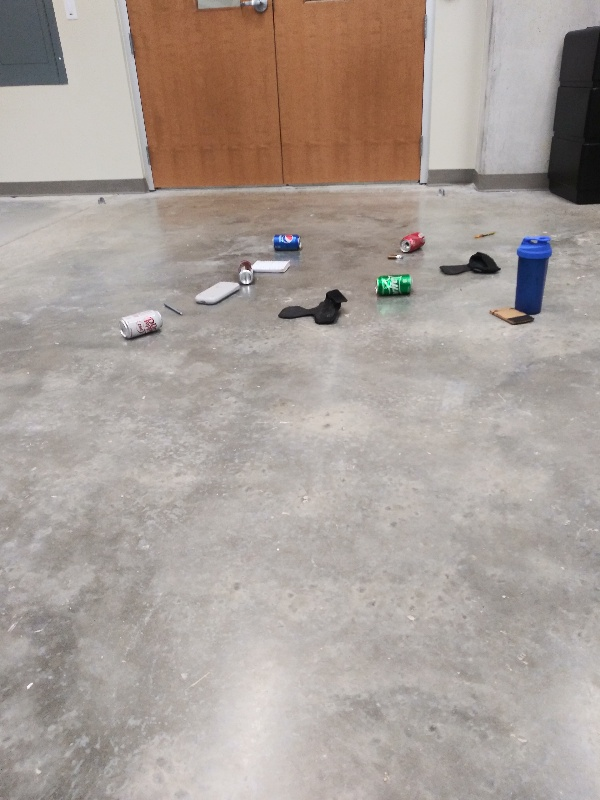can: (117, 304, 163, 340), (374, 272, 416, 299), (271, 232, 305, 253), (399, 230, 427, 254), (237, 258, 256, 287)
